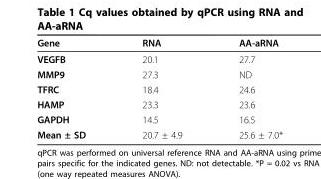table: (36, 36, 282, 139)
table column: (113, 36, 209, 139), (36, 36, 113, 139), (209, 36, 282, 139)
table column header: (36, 36, 282, 50)
table row: (36, 50, 282, 66), (36, 66, 282, 81), (36, 81, 282, 96), (36, 96, 282, 111), (36, 111, 282, 126), (36, 36, 282, 50), (36, 126, 282, 139)
